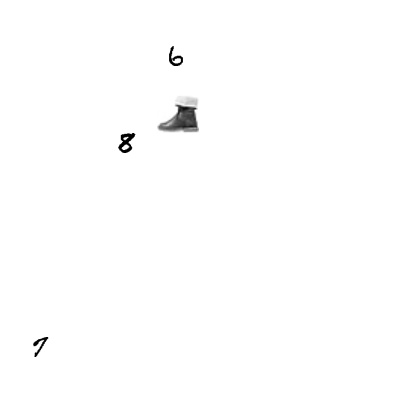6: (160, 44, 188, 72)
7: (25, 330, 53, 358)
8: (112, 128, 140, 156)
Ankle_boot: (157, 93, 199, 135)
